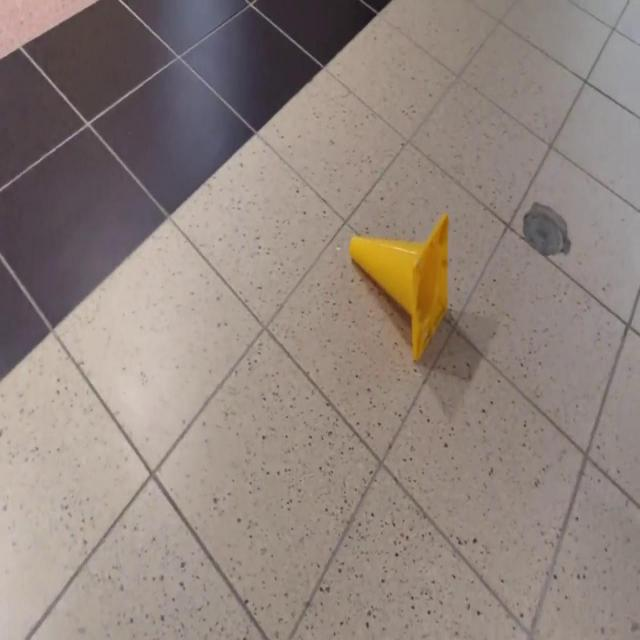frc_cone: (351, 213, 451, 364)
